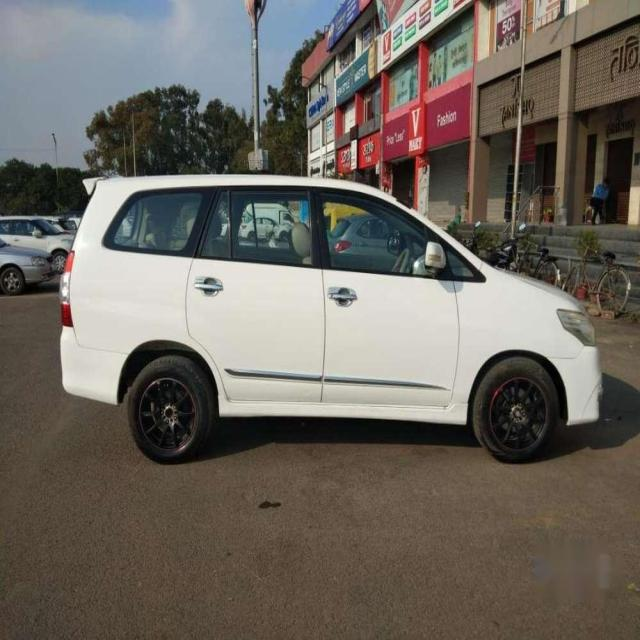light_vehicle: (57, 172, 604, 464)
